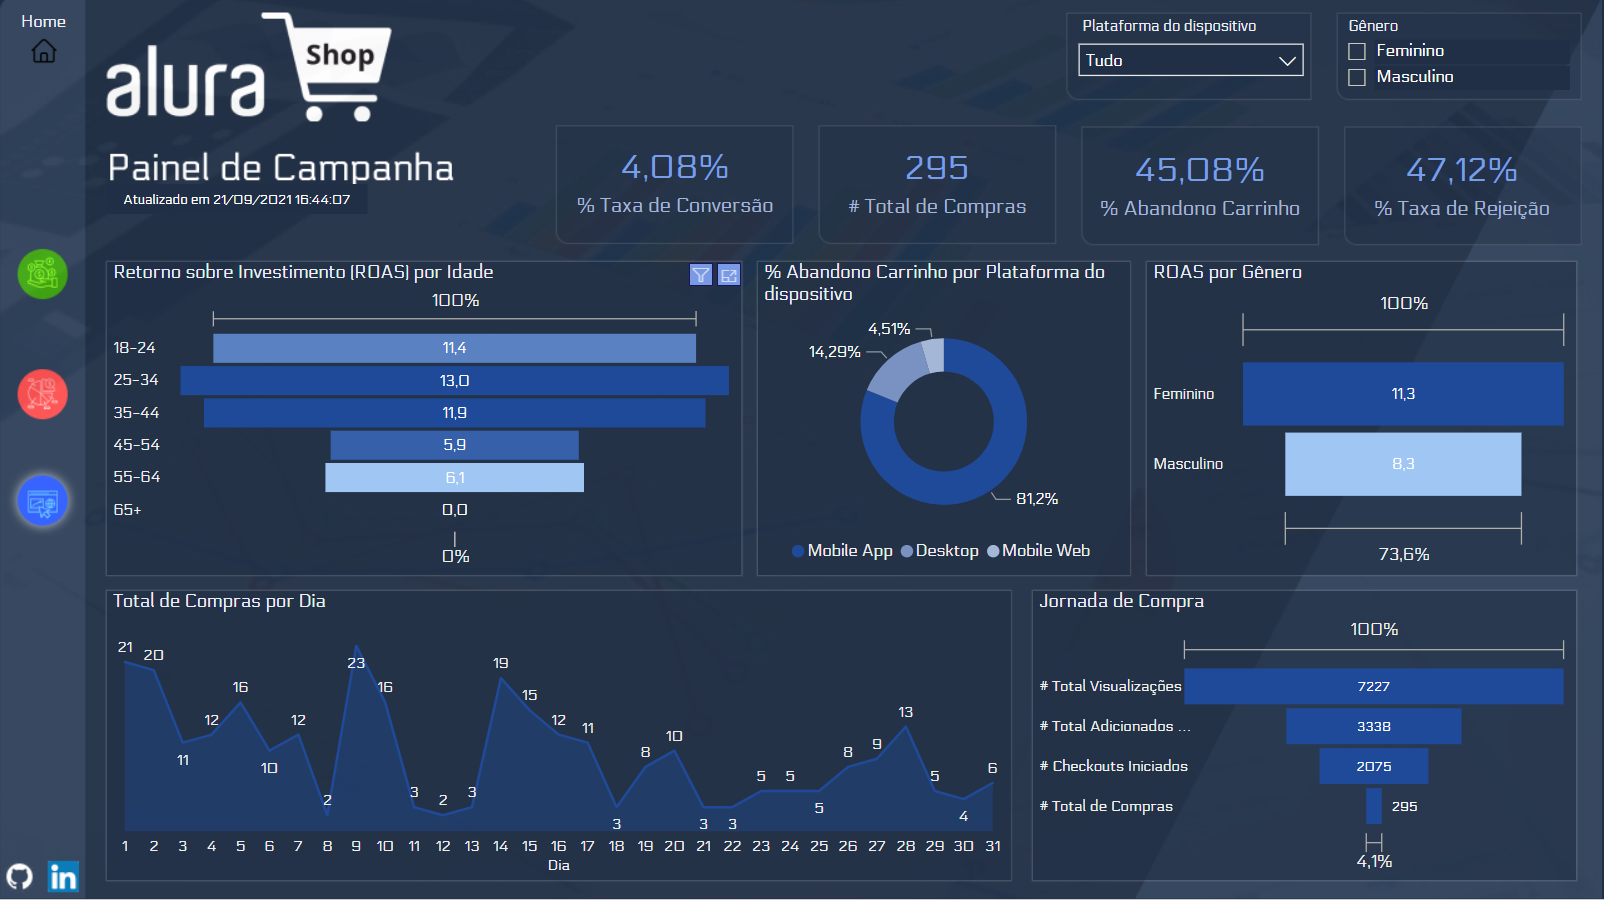

What the dashboard file says about the page in this screenshot:
{"tool":"powerbi","page":{"name":"Campanha","canvas":[1280,720],"ordinal":3},"visuals":[{"type":"image","title":"Home","box":[7.6,10.4,55,46.4],"z":0},{"type":"shape","box":[15.2,197.1,40.7,46.4],"z":1000},{"type":"shape","box":[14.2,289.9,40.7,46.4],"z":2000},{"type":"card","fields":{"Values":["Medidas.% Taxa de Conversão"]},"box":[445.6,97.7,186.8,92],"z":3000},{"type":"card","fields":{"Values":["Medidas.% Taxa de Rejeição"]},"box":[1075.2,99.6,186.8,92],"z":4000},{"type":"card","fields":{"Values":["Medidas.% Abandono Carrinho"]},"box":[865.7,99.6,186.8,92],"z":5000},{"type":"card","fields":{"Values":["Medidas.# Total de Compras"]},"box":[655.2,98.6,186.8,92],"z":6000},{"type":"funnel","title":"Jornada de Compra","fields":{"Y":["Medidas.# Total Visualizações","Medidas.# Adicionados ao Carrinho","Medidas.# Checkouts Iniciados","Medidas.# Total de Compras"]},"box":[825.8,473.1,434.3,231.3],"z":7000},{"type":"donutChart","fields":{"Y":["Medidas.% Abandono Carrinho"],"Series":["Dispositivos.Plataforma do dispositivo"]},"box":[605.9,210.5,296.8,250.3],"z":8000},{"type":"funnel","title":"ROAS por Gênero","fields":{"Category":["Idade_Genero.Gênero"],"Y":["Medidas.% ROAS"]},"box":[916.9,210.5,343.2,250.3],"z":9000},{"type":"slicer","fields":{"Values":["Idade_Genero.Gênero"]},"box":[1064.8,10,195.3,69.7],"z":10000},{"type":"areaChart","title":"Total de Compras por Dia","fields":{"Category":["Tempo.Date.Variation.Hierarquia de datas.Dia"],"Y":["Medidas.# Total de Compras"]},"box":[85.3,473.1,722.5,231.3],"z":11000},{"type":"funnel","title":"Retorno sobre Investimento (ROAS) por Idade","fields":{"Category":["Idade_Genero.Idade"],"Y":["Medidas.% ROAS"]},"box":[85.3,210.5,507.3,250.3],"z":12000},{"type":"slicer","fields":{"Values":["Dispositivos.Plataforma do dispositivo"]},"box":[851.9,9.7,199.6,70.3],"z":13000}]}

Visuals, with their boxes on the page's 1280x720 design canvas (x1, y1, x2, y2). These are canvas units, not pixel positions in the 1604x900 screenshot, which may show the page scaled, cropped or inside an application window:
"Home" image: detection(8, 10, 63, 57)
shape: detection(15, 197, 56, 244)
shape: detection(14, 290, 55, 336)
card - Medidas.% Taxa de Conversão: detection(446, 98, 632, 190)
card - Medidas.% Taxa de Rejeição: detection(1075, 100, 1262, 192)
card - Medidas.% Abandono Carrinho: detection(866, 100, 1052, 192)
card - Medidas.# Total de Compras: detection(655, 99, 842, 191)
"Jornada de Compra" funnel: detection(826, 473, 1260, 704)
donutChart - Medidas.% Abandono Carrinho x Dispositivos.Plataforma do dispositivo: detection(606, 210, 903, 461)
"ROAS por Gênero" funnel: detection(917, 210, 1260, 461)
slicer - Idade_Genero.Gênero: detection(1065, 10, 1260, 80)
"Total de Compras por Dia" areaChart: detection(85, 473, 808, 704)
"Retorno sobre Investimento (ROAS) por Idade" funnel: detection(85, 210, 593, 461)
slicer - Dispositivos.Plataforma do dispositivo: detection(852, 10, 1052, 80)
